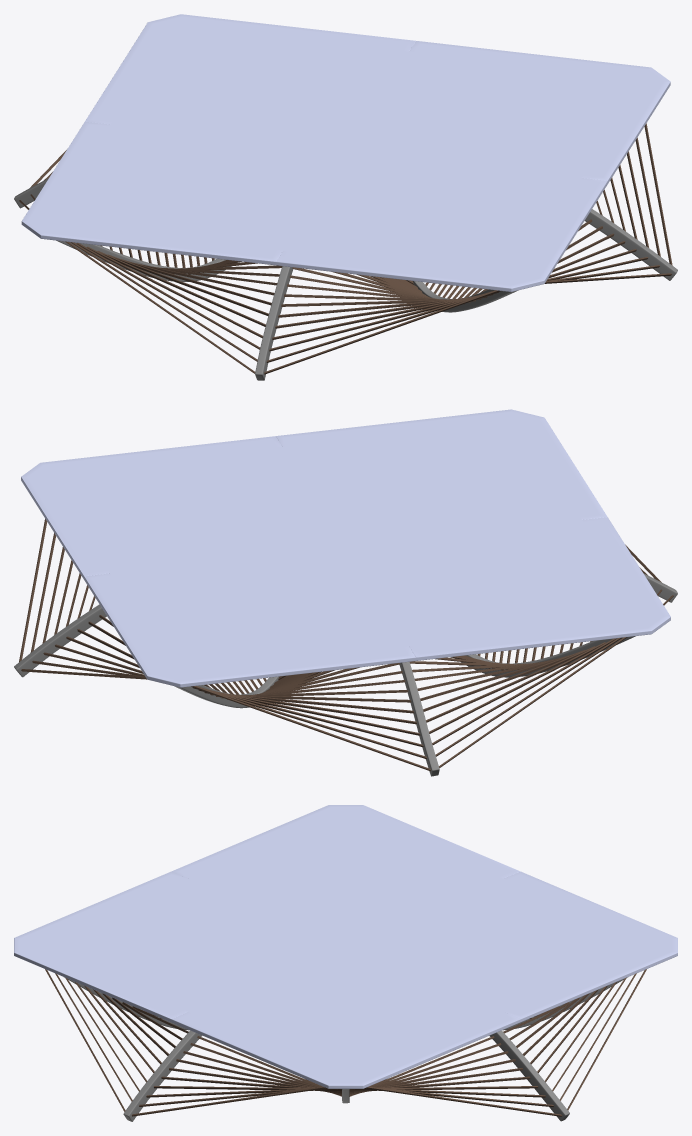
The model's file is table.glb.
3 renders of one model, top to bottom at view 1: azimuth 30°, elevation 25°; view 2: azimuth 150°, elevation 25°; view 3: azimuth 270°, elevation 25°, orthographic. The views are drawn at different scales.
Visible parts, largest first — view 1: MesaV2_Vidrio_vidrio_0, MesaV2_Soportes_B_Patas_0 (×3), MesaV2_Patas_003_Soportes_0, MesaV2_Patas_001_Soportes_0, MesaV2_Patas_002_Soportes_0, MesaV2_Patas_004_Soportes_0; view 2: MesaV2_Vidrio_vidrio_0, MesaV2_Soportes_B_Patas_0 (×4), MesaV2_Patas_001_Soportes_0, MesaV2_Patas_003_Soportes_0, MesaV2_Patas_002_Soportes_0, MesaV2_Patas_004_Soportes_0; view 3: MesaV2_Vidrio_vidrio_0, MesaV2_Soportes_B_Patas_0 (×4), MesaV2_Patas_001_Soportes_0, MesaV2_Patas_003_Soportes_0, MesaV2_Patas_004_Soportes_0.
Part boxes in pixels (box(x1,y1,x2,y2)): MesaV2_Vidrio_vidrio_0: box(21, 14, 670, 291); MesaV2_Soportes_B_Patas_0 (×3): box(19, 123, 672, 374); MesaV2_Patas_003_Soportes_0: box(14, 178, 677, 280); MesaV2_Patas_001_Soportes_0: box(255, 266, 293, 380); MesaV2_Patas_002_Soportes_0: box(56, 240, 237, 281); MesaV2_Patas_004_Soportes_0: box(413, 281, 518, 312); MesaV2_Vidrio_vidrio_0: box(21, 409, 670, 687); MesaV2_Soportes_B_Patas_0 (×4): box(19, 519, 673, 771); MesaV2_Patas_001_Soportes_0: box(14, 573, 677, 677); MesaV2_Patas_003_Soportes_0: box(399, 662, 439, 776); MesaV2_Patas_002_Soportes_0: box(455, 636, 635, 677); MesaV2_Patas_004_Soportes_0: box(175, 676, 279, 708); MesaV2_Vidrio_vidrio_0: box(14, 805, 677, 1088); MesaV2_Soportes_B_Patas_0 (×4): box(45, 969, 646, 1116); MesaV2_Patas_001_Soportes_0: box(489, 1030, 569, 1121); MesaV2_Patas_003_Soportes_0: box(123, 1030, 202, 1121); MesaV2_Patas_004_Soportes_0: box(64, 977, 627, 1030).
Bounding box in the file's own units: 3.44 × 0.4813 × 3.44.
